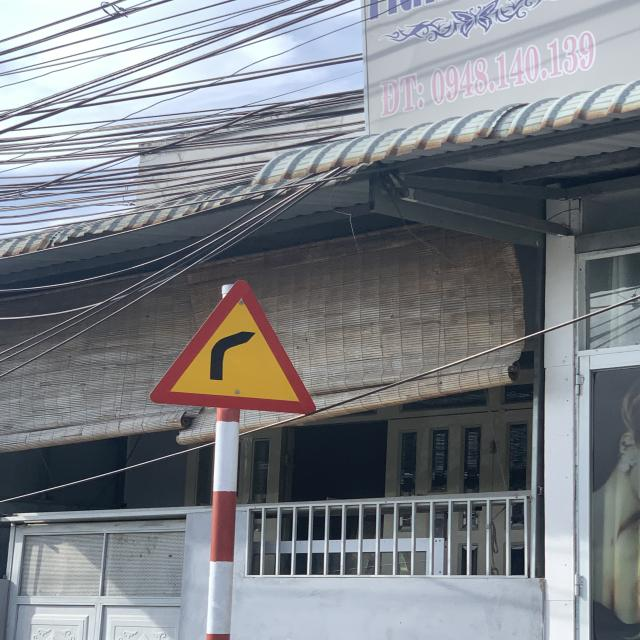Duong_Nguoi_Di_Bo_Cat_Ngang: (149, 278, 318, 414)
